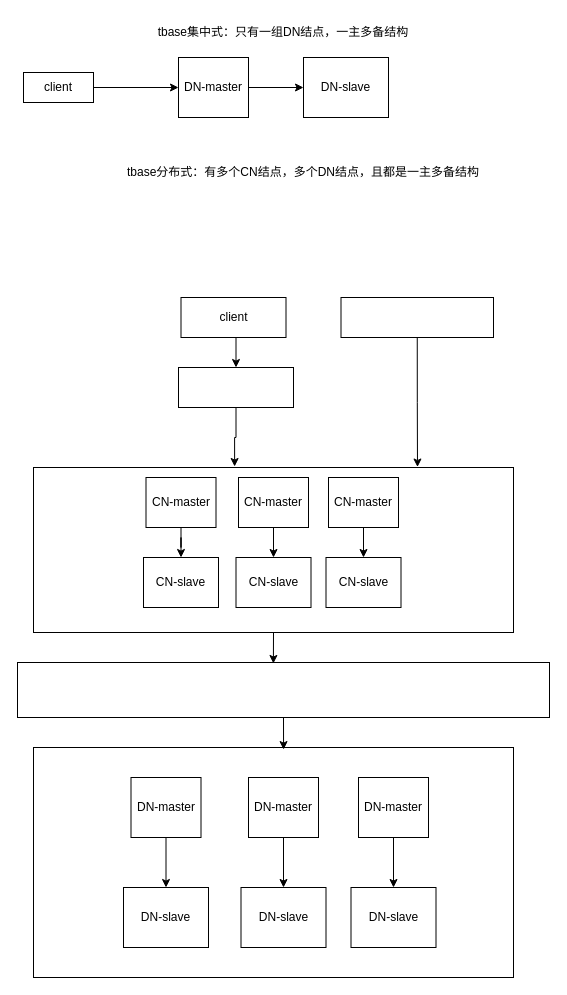
This 567x995 diagram has some shape labels left out. Each missing label, with the centre of its shape:
"client: cn1;cn2;cn3" goes at (417,317).
"数据交互总线" goes at (283,690).
"负载均衡组件LB" goes at (236,387).
